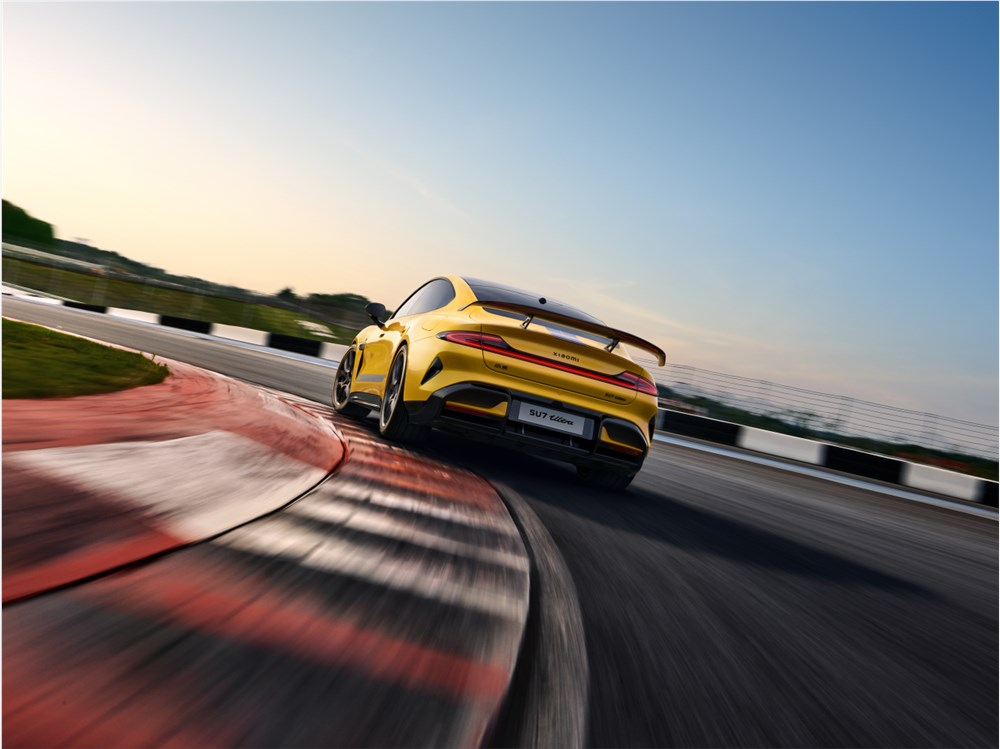su7: (330, 264, 661, 484)
